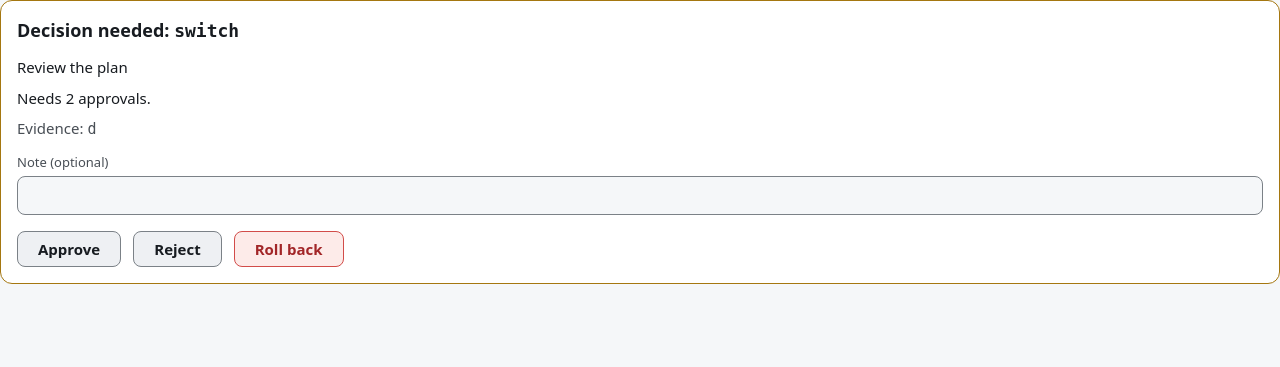
Test: GateCard › offers sign-out on the 403 for a stale session
Step 1. Click the button "Approve" → (69, 249), box [17,231,121,267]
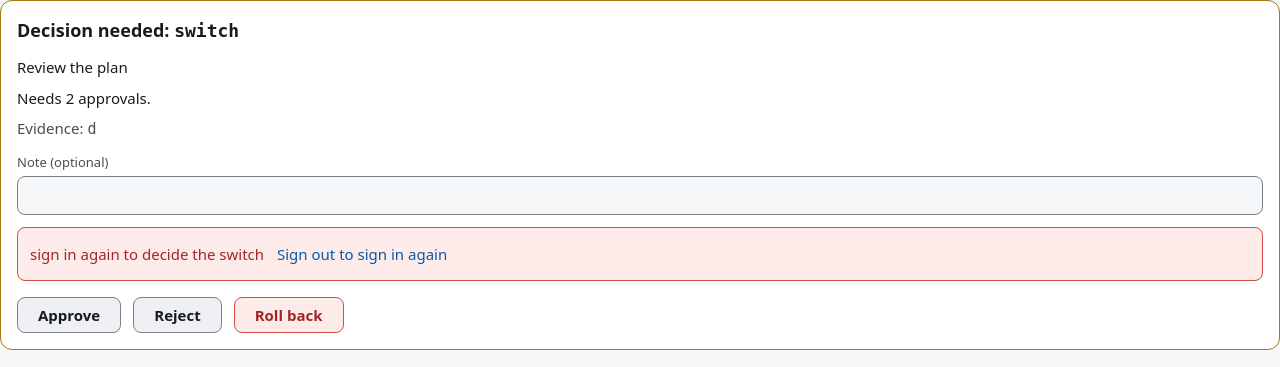
Expected: the message shows "sign in again to decide the switch", [30,244,264,264]
Expected: the button "Sign out to sign in again" is shown, [268,236,456,272]
